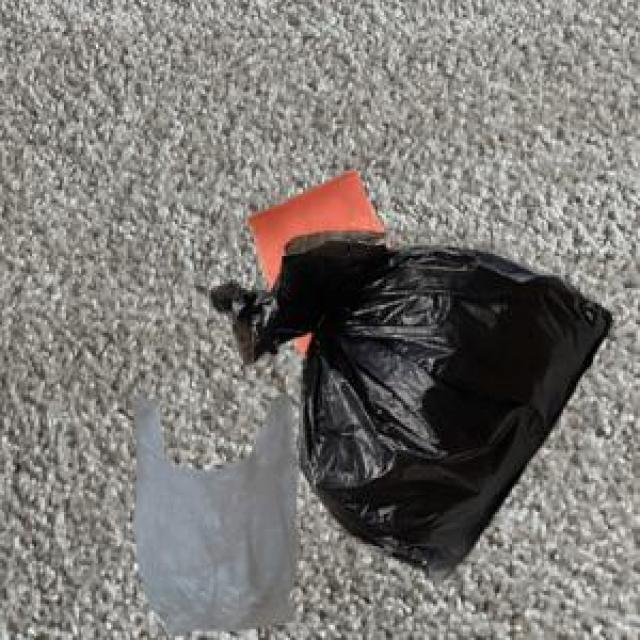miscellaneous trash: (203, 226, 608, 580)
